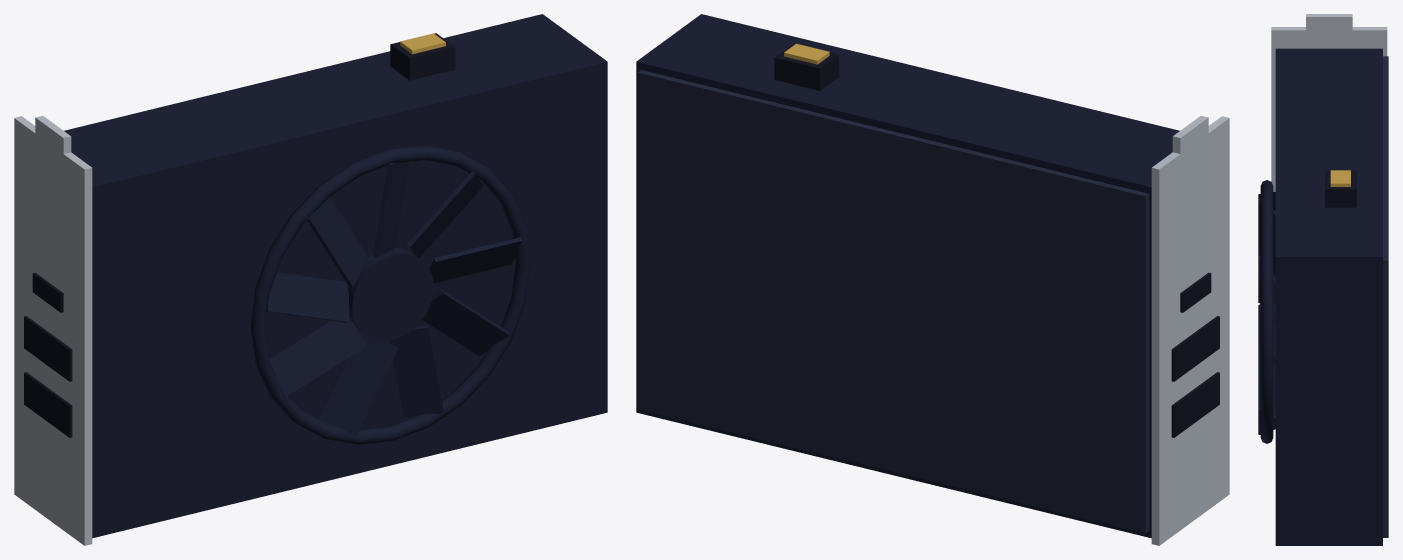
Rendered from gpu-compact.glb.
3 views of the same model, side by side, from view 1: azimuth 30°, elevation 25°; view 2: azimuth 150°, elevation 25°; view 3: azimuth 270°, elevation 25° (orthographic). The views are drawn at different scales.
Parts seen in each view (by area): view 1: shroud, blades_1, pcie_bracket, fan_ring, io_cutouts, power_connector, bracket_tab; view 2: backplate, shroud, pcie_bracket, io_cutouts, power_connector, bracket_tab; view 3: shroud, fan_ring, backplate, pcie_bracket, blades_1, bracket_tab, power_connector, power_pins.
Part boxes in pixels (left/top/right/bottom): shroud: left=64, top=14, right=607, bottom=538; blades_1: left=265, top=161, right=521, bottom=436; pcie_bracket: left=14, top=116, right=92, bottom=545; fan_ring: left=250, top=145, right=530, bottom=444; io_cutouts: left=24, top=272, right=72, bottom=437; power_connector: left=390, top=33, right=455, bottom=80; bracket_tab: left=35, top=115, right=71, bottom=163; backplate: left=638, top=70, right=1149, bottom=533; shroud: left=636, top=14, right=1179, bottom=538; pcie_bracket: left=1151, top=116, right=1229, bottom=545; io_cutouts: left=1171, top=272, right=1219, bottom=437; power_connector: left=774, top=43, right=839, bottom=90; bracket_tab: left=1172, top=115, right=1208, bottom=163; shroud: left=1275, top=48, right=1382, bottom=545; fan_ring: left=1260, top=180, right=1273, bottom=443; backplate: left=1383, top=56, right=1388, bottom=537; pcie_bracket: left=1271, top=27, right=1387, bottom=191; blades_1: left=1258, top=192, right=1275, bottom=434; bracket_tab: left=1306, top=14, right=1352, bottom=37; power_connector: left=1325, top=171, right=1356, bottom=207; power_pins: left=1330, top=170, right=1350, bottom=186.
Size of the model in its own units: 173 by 123 by 45.04.
